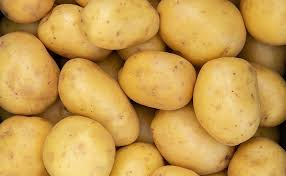potato: (196, 56, 260, 145), (42, 113, 116, 176), (117, 49, 194, 108)
